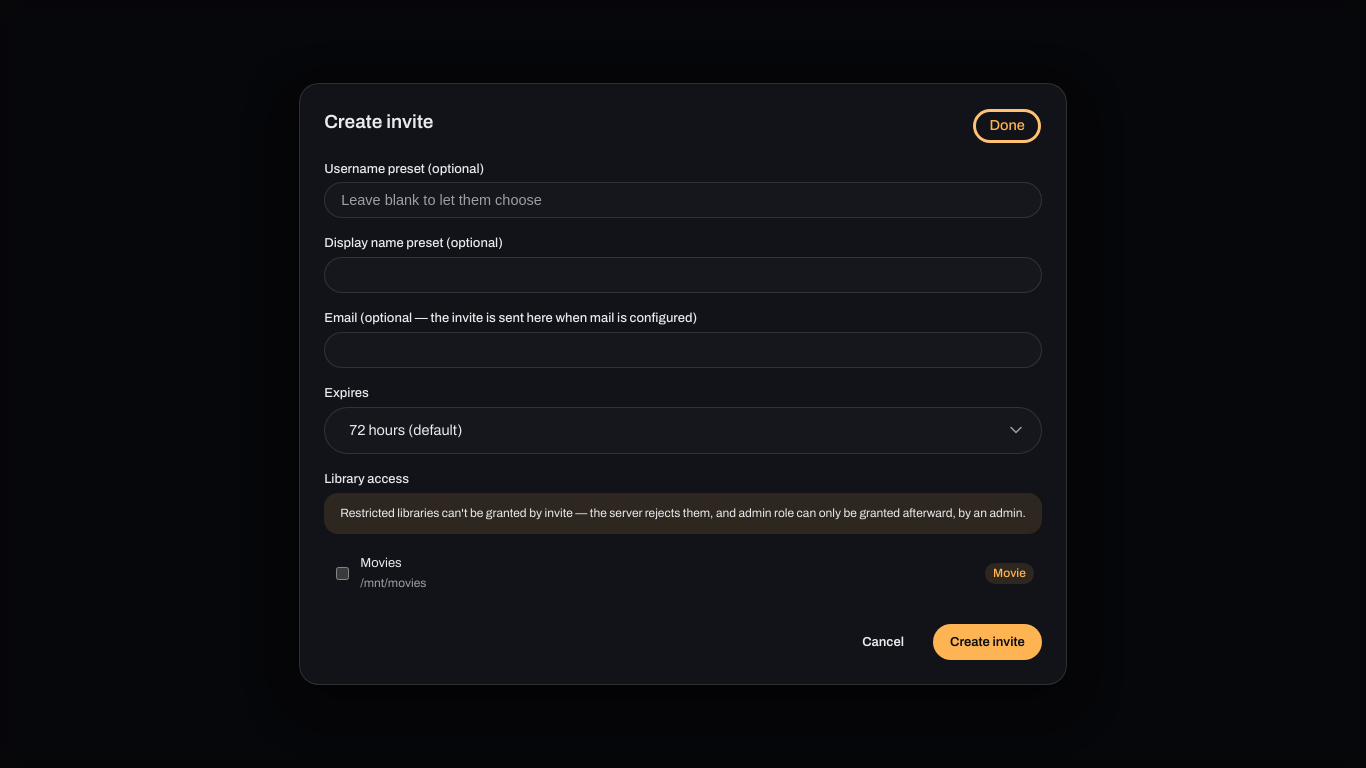
Test: CreateInviteSheet — E2 create -> reveal -> copy › surfaces a server error inline and stays on the form
Click the button "Create invite". click: click(987, 642)
box: [933, 624, 1042, 660]
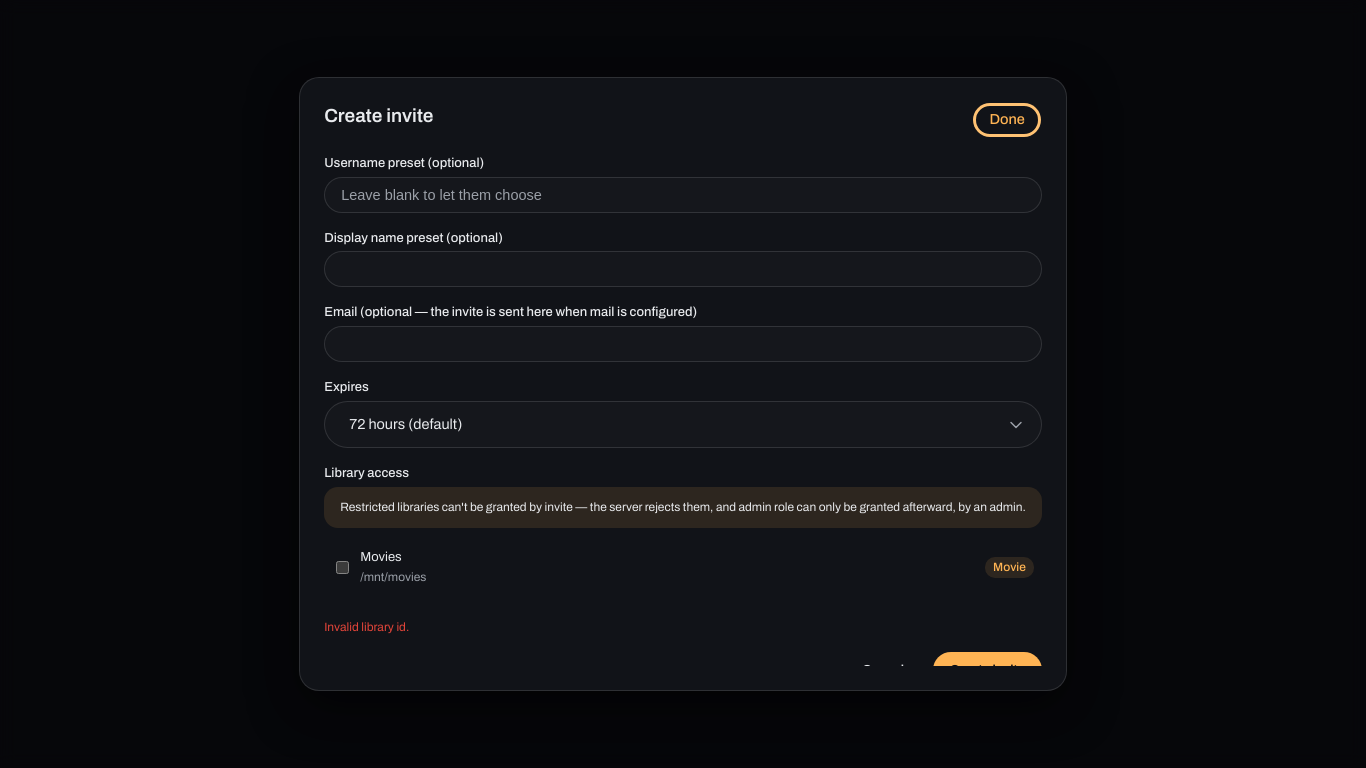
Check: the checkbox labelled "Movies /mnt/movies Movie" is shown, box [336, 561, 349, 574]
Check: the text "Invalid library id." is shown, box [324, 620, 409, 634]
